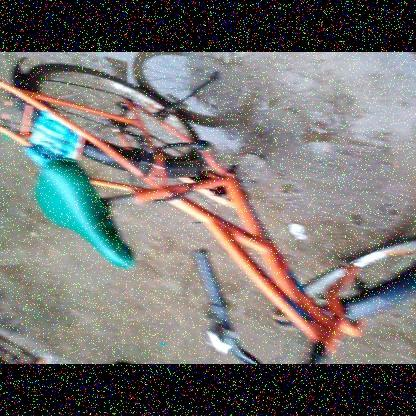Bicycle: (0, 48, 416, 366)
